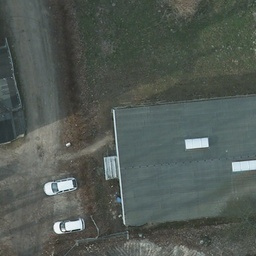car: (44, 178, 78, 196), (53, 216, 85, 234)
